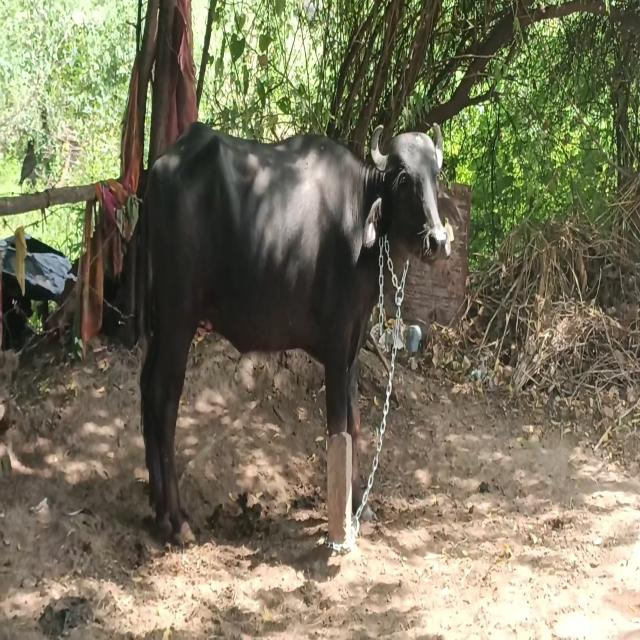Breed: (129, 105, 455, 583)
